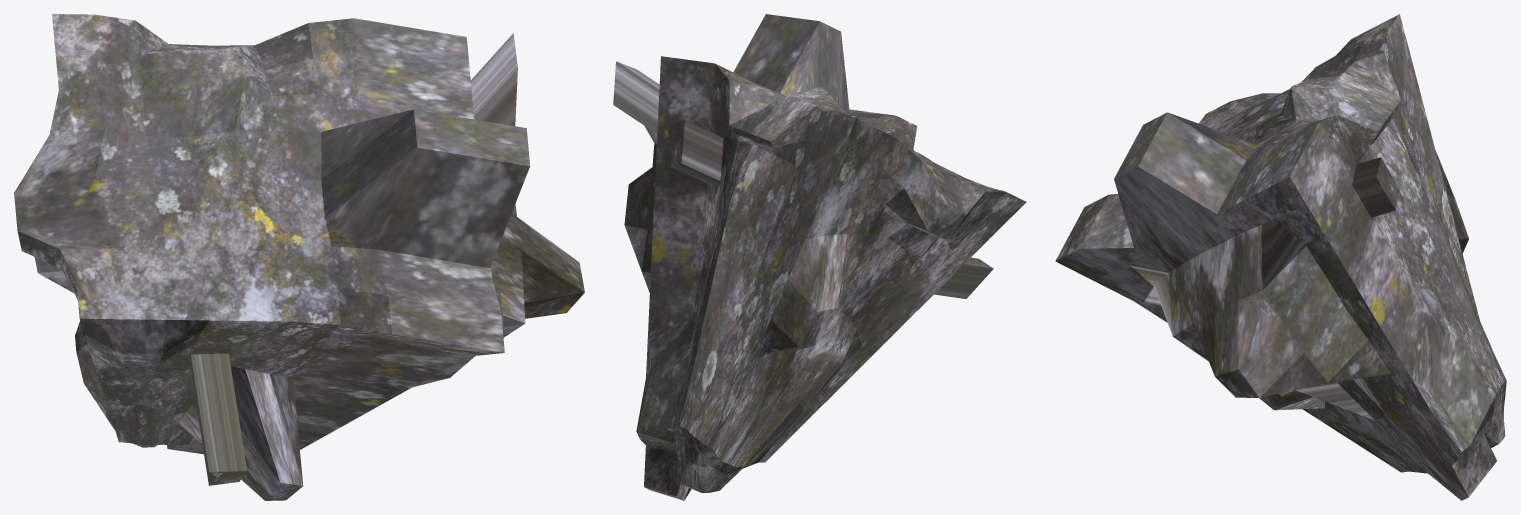
The model's file is mountain2.fbx.
3 views of the same model, side by side, from view 1: azimuth 30°, elevation 25°; view 2: azimuth 150°, elevation 25°; view 3: azimuth 270°, elevation 25° (orthographic). The views are drawn at different scales.
Visible parts, largest first — view 1: pasted__Flying_island_small; view 2: pasted__Flying_island_small; view 3: pasted__Flying_island_small.
Part boxes in pixels (x1,y1,x2,y2): pasted__Flying_island_small: [14, 14, 584, 500]; pasted__Flying_island_small: [613, 14, 1026, 500]; pasted__Flying_island_small: [1055, 14, 1506, 500].
Size of the model in its own units: 26.35 by 25.87 by 26.48.
Materials: 1 (1 with a texture image).
